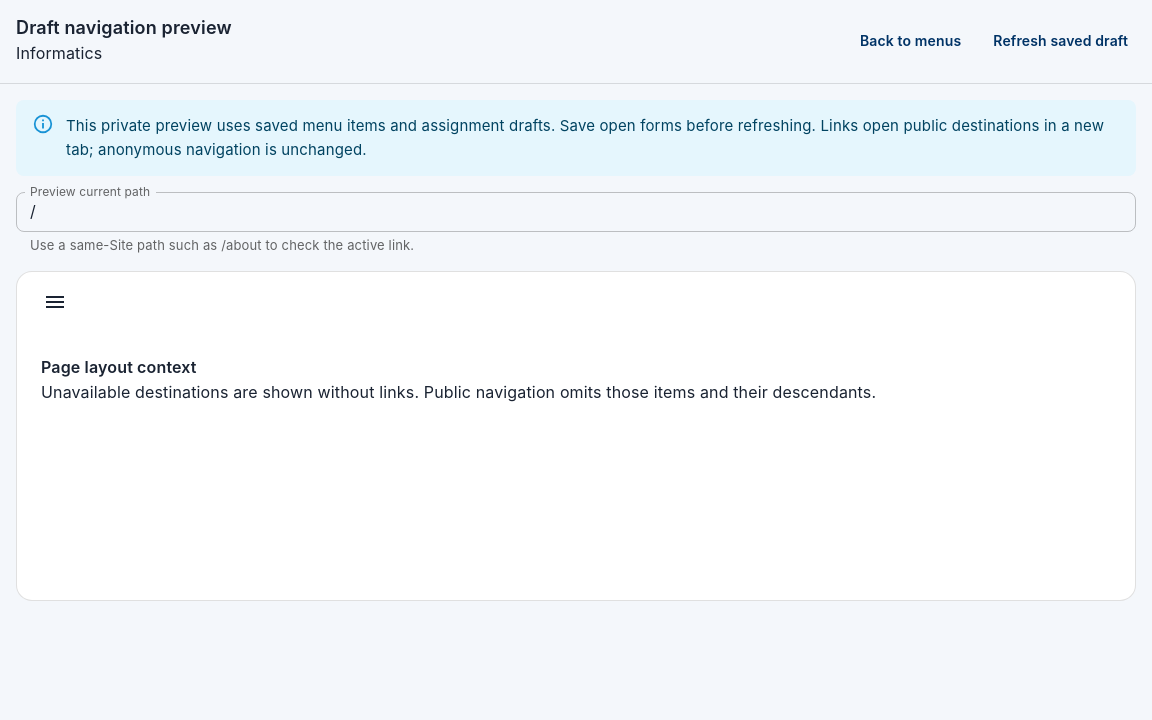
Test case: clears a rendered private preview when refresh is denied
Click the button "Refresh saved draft" at (1061,41), box [985,23,1136,60]
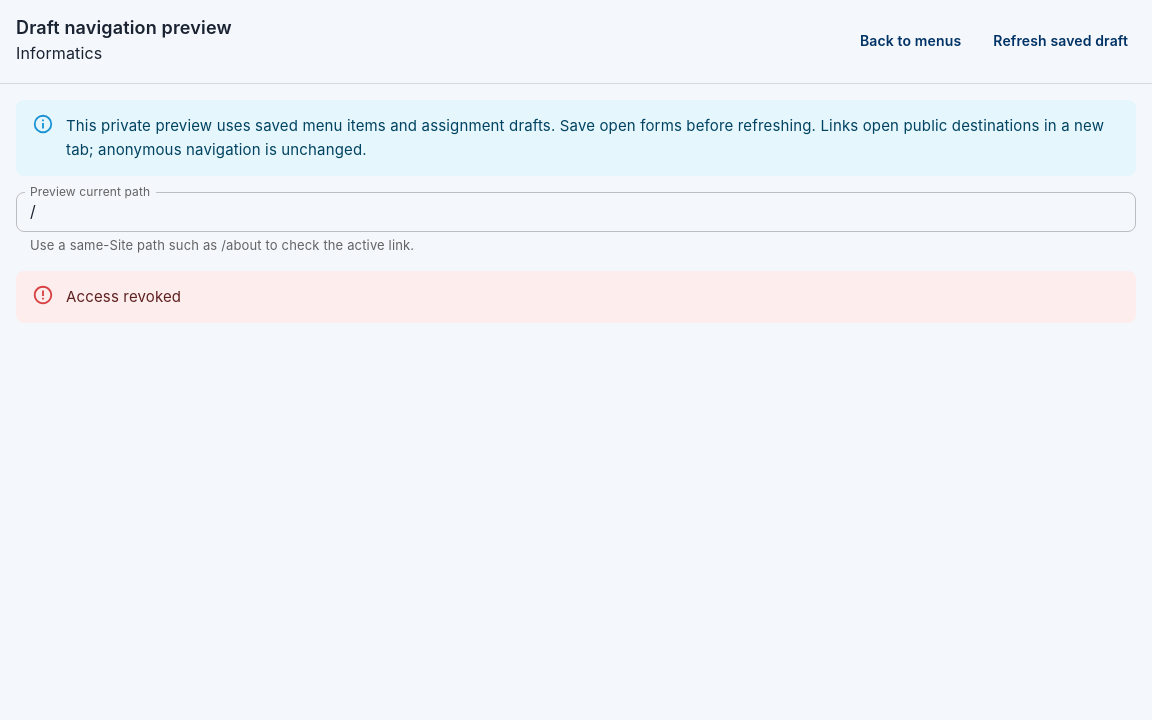
Now the text "Access revoked" is shown, box [66,287,181,306]
